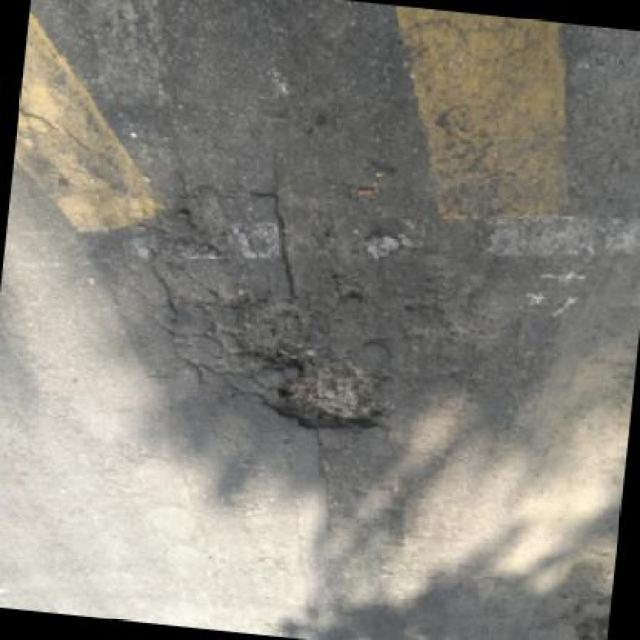pothole: (260, 347, 403, 442), (228, 292, 324, 374), (174, 178, 240, 256)
